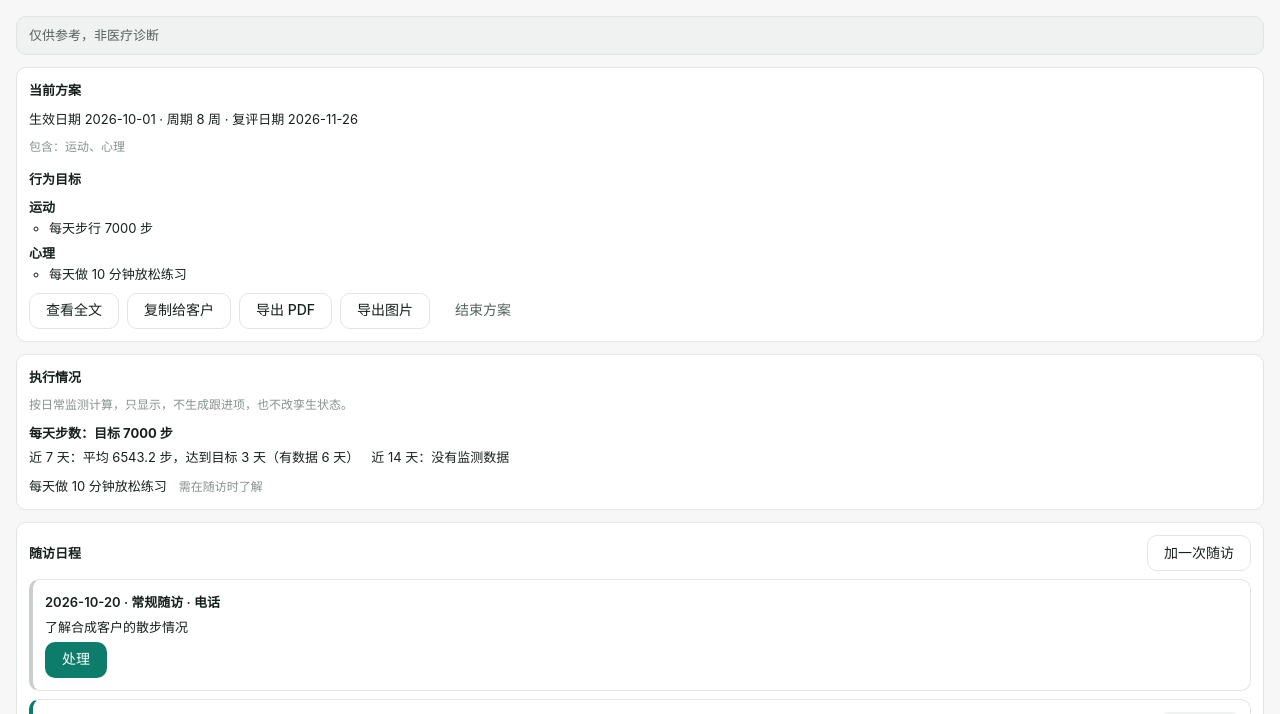
Test: 客户 · 方案与随访（M5 规格 2.6） › 查看全文：显示确认时的专业版和通俗版快照
Click the button "查看全文" at x=74, y=311, box [29, 293, 119, 329]
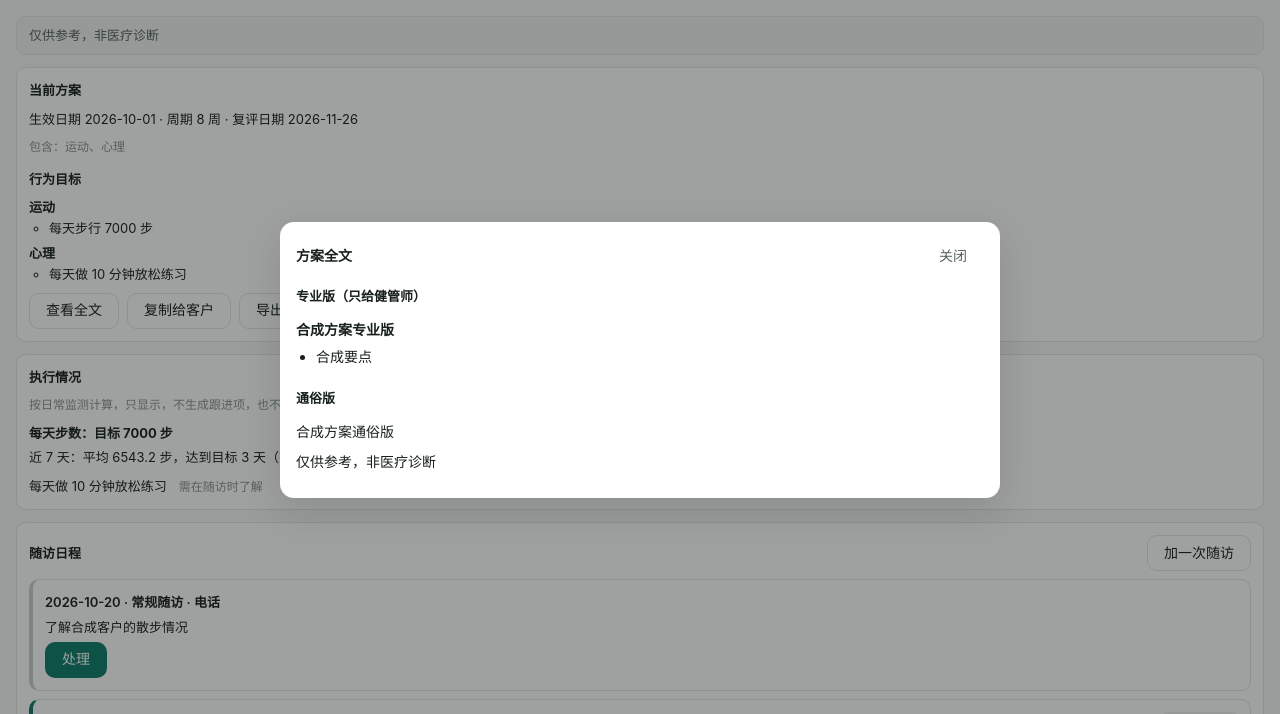
Result: the list item "合成要点" is shown at [316, 348, 372, 365]
Result: the dialog "方案全文" shows "合成方案通俗版" at [296, 423, 394, 440]
Press Escape
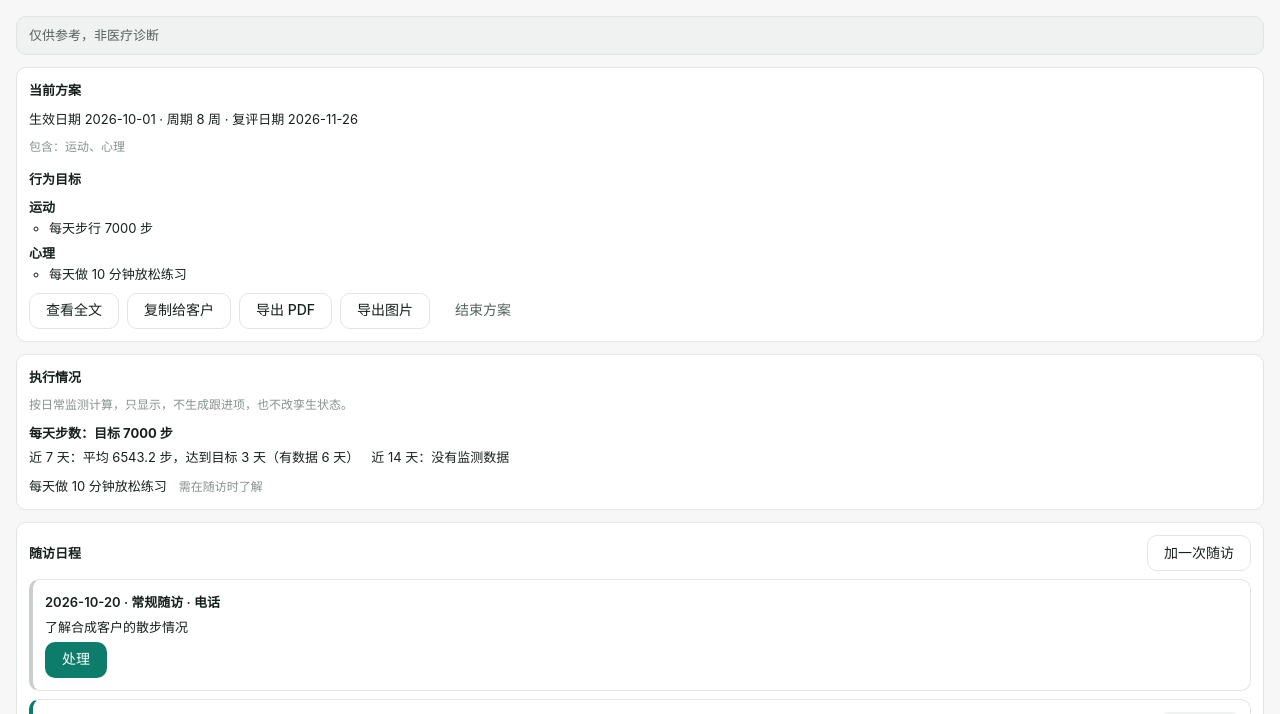
Result: the dialog is gone
